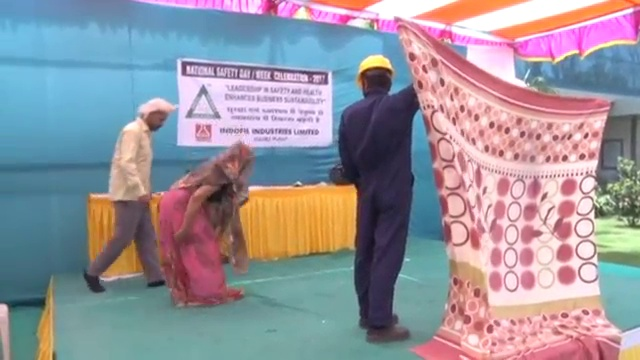helmet: (355, 52, 395, 85)
helmet_off: (141, 99, 176, 131), (224, 142, 254, 173)
helmet_on: (354, 51, 395, 99)
person: (332, 52, 424, 345), (155, 139, 257, 311), (84, 100, 165, 293)
